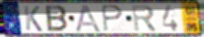4: (162, 4, 180, 33)
A: (75, 4, 103, 33)
B: (45, 4, 69, 33)
K: (22, 5, 44, 33)
P: (100, 4, 125, 33)
R: (131, 4, 159, 33)
